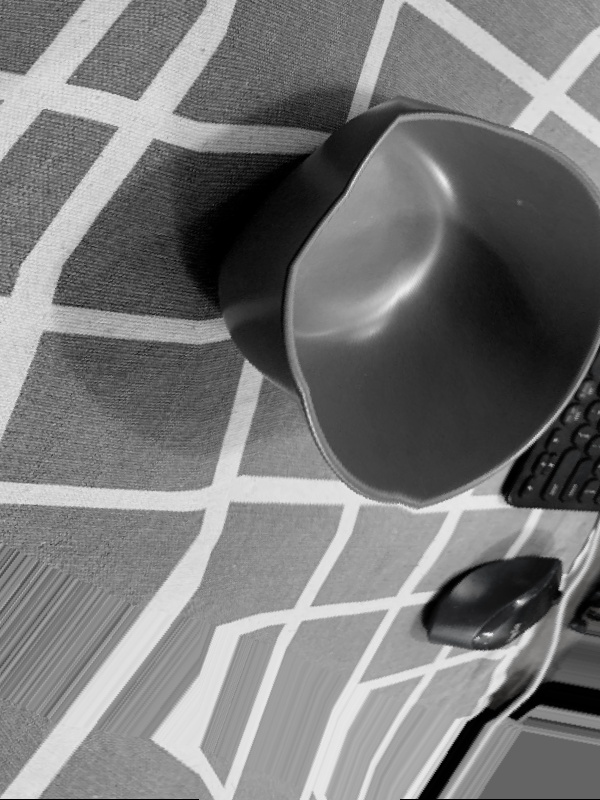bowl_big: (154, 43, 599, 561)
